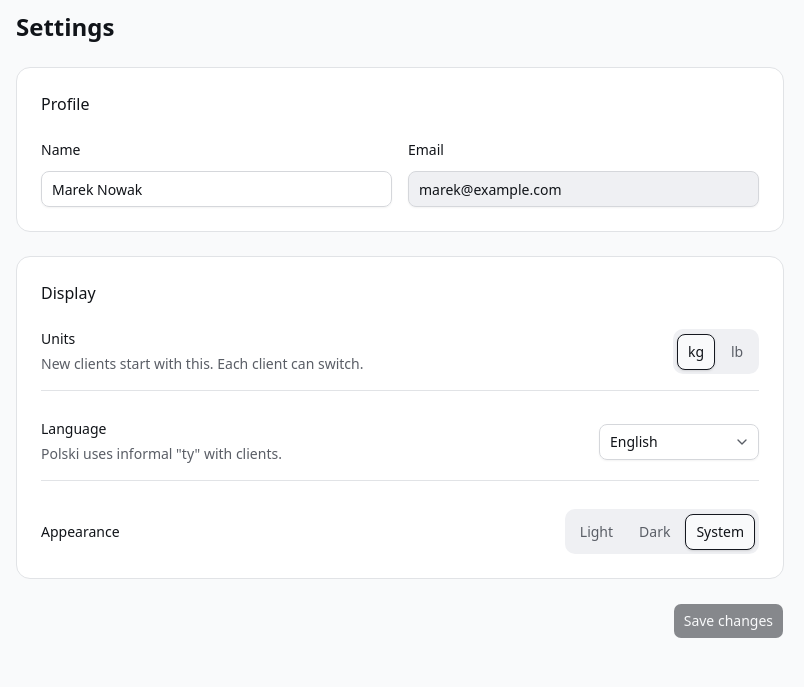
Test case: SettingsPage › keeps the changes when saving fails
The width and height of the screenshot is (804, 687).
Replace the text in the field labelled "Name" with "Marek Kowalski" at (216, 189), box [41, 171, 392, 207]
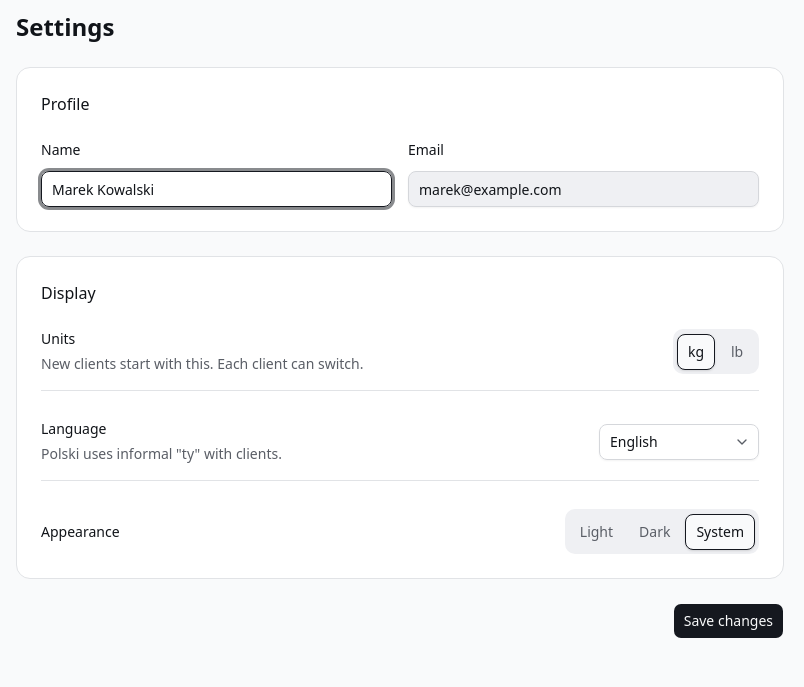
Click the button "Save changes" at (728, 621), box [673, 603, 784, 639]
(page scrolled)
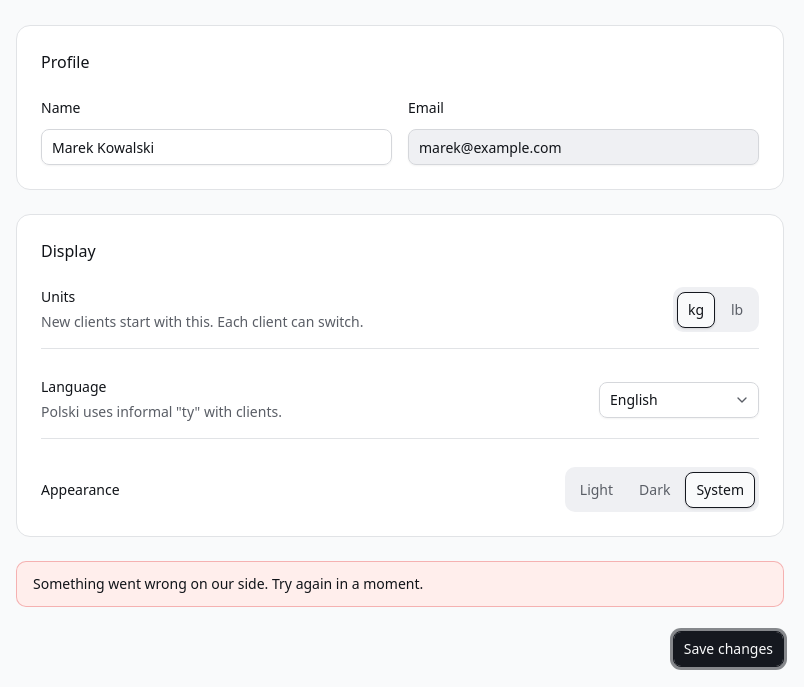
Expected: the button "Save changes" is enabled, [673, 631, 784, 667]
Expected: the message reads "Something went wrong on our side. Try again in a moment.", [33, 574, 423, 593]
